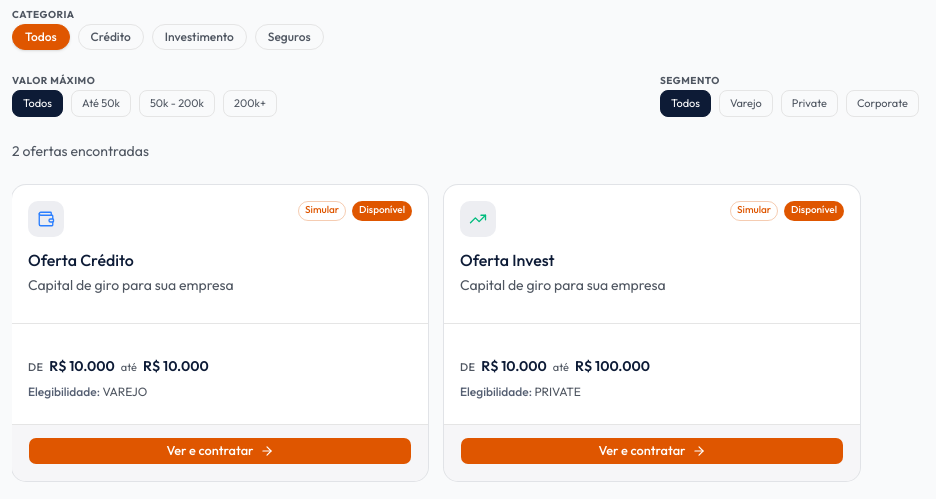
Test: OfferList › Rendering and filters › filters by segment
The image size is (936, 499).
Note: Clicks in "Private"
Step 1. Click the button "Private" → (809, 103), box [781, 90, 838, 116]
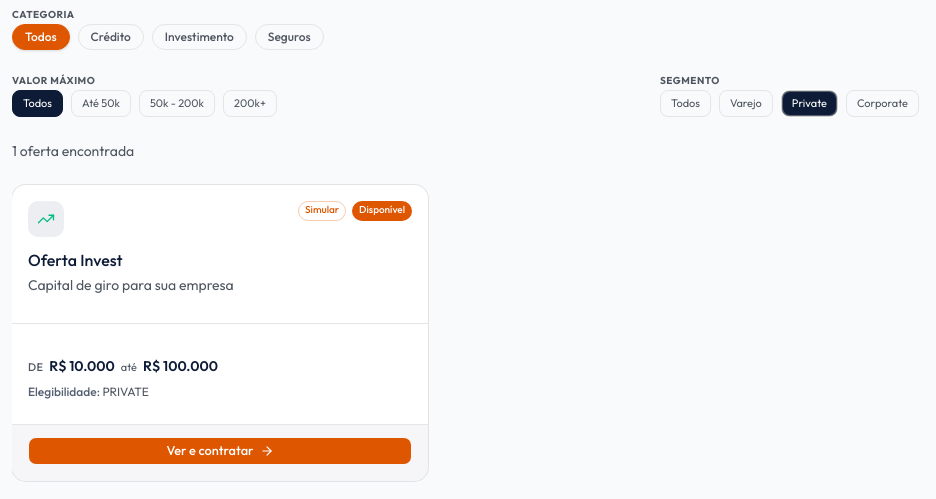
Expected: the text "Oferta Invest" is shown, [28, 250, 123, 270]
Expected: the text "Oferta Crédito" is gone
